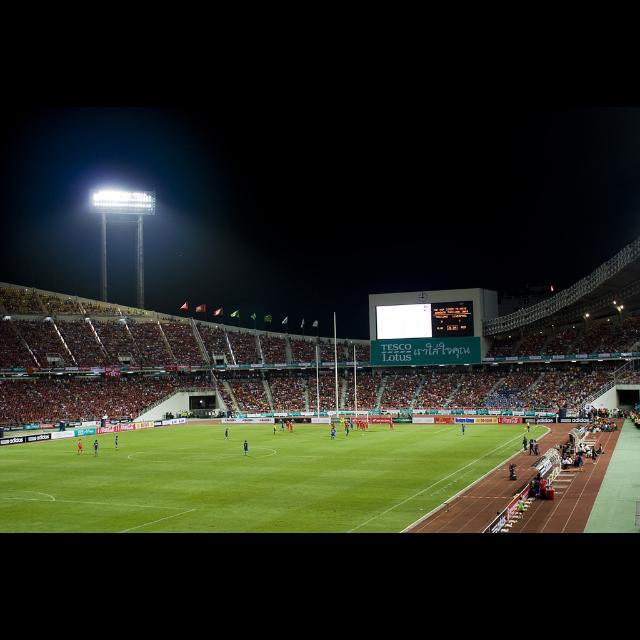Football: (360, 434, 362, 436)
